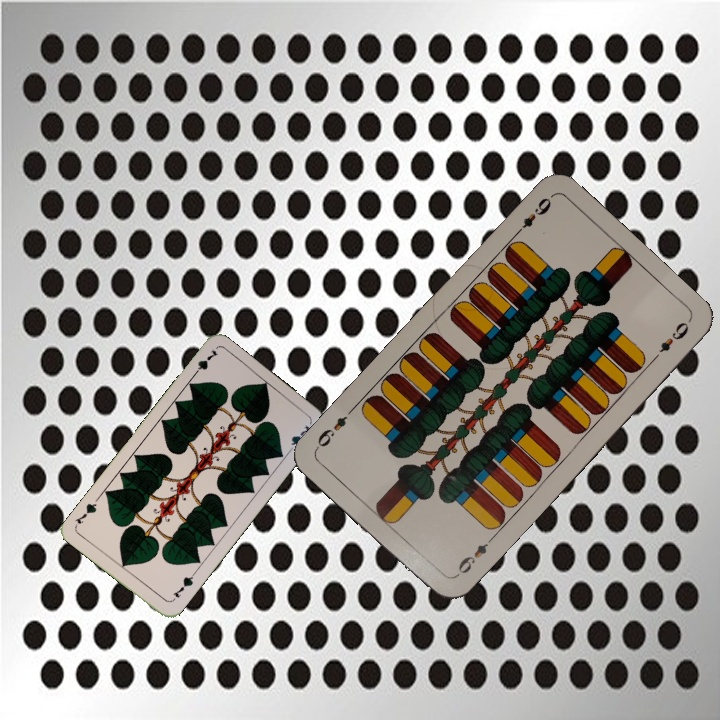E9: (450, 533, 496, 580), (510, 193, 554, 239)
G7: (188, 345, 221, 380), (168, 569, 197, 604)
